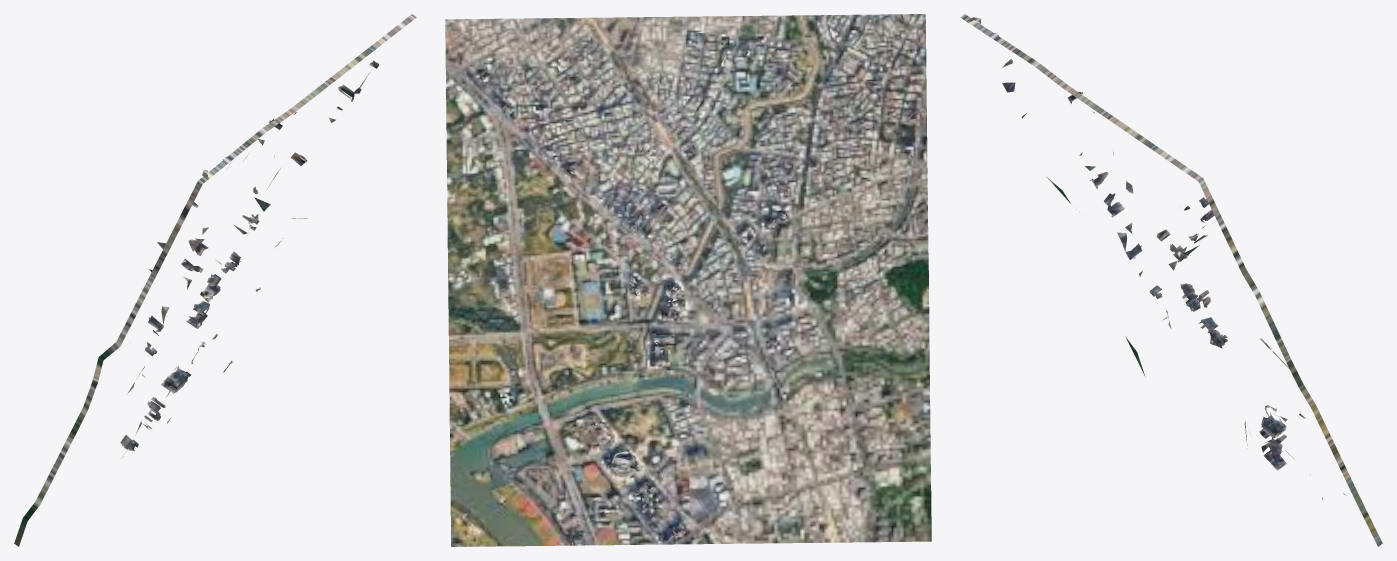
The picture shows the model from 3 angles, left to right: view 1: azimuth 30°, elevation 25°; view 2: azimuth 150°, elevation 25°; view 3: azimuth 270°, elevation 25°; orthographic projection. The views are drawn at different scales.
Bounding box in the file's own units: 2445 × 2235 × 2056.
1 material, 1 textured.
